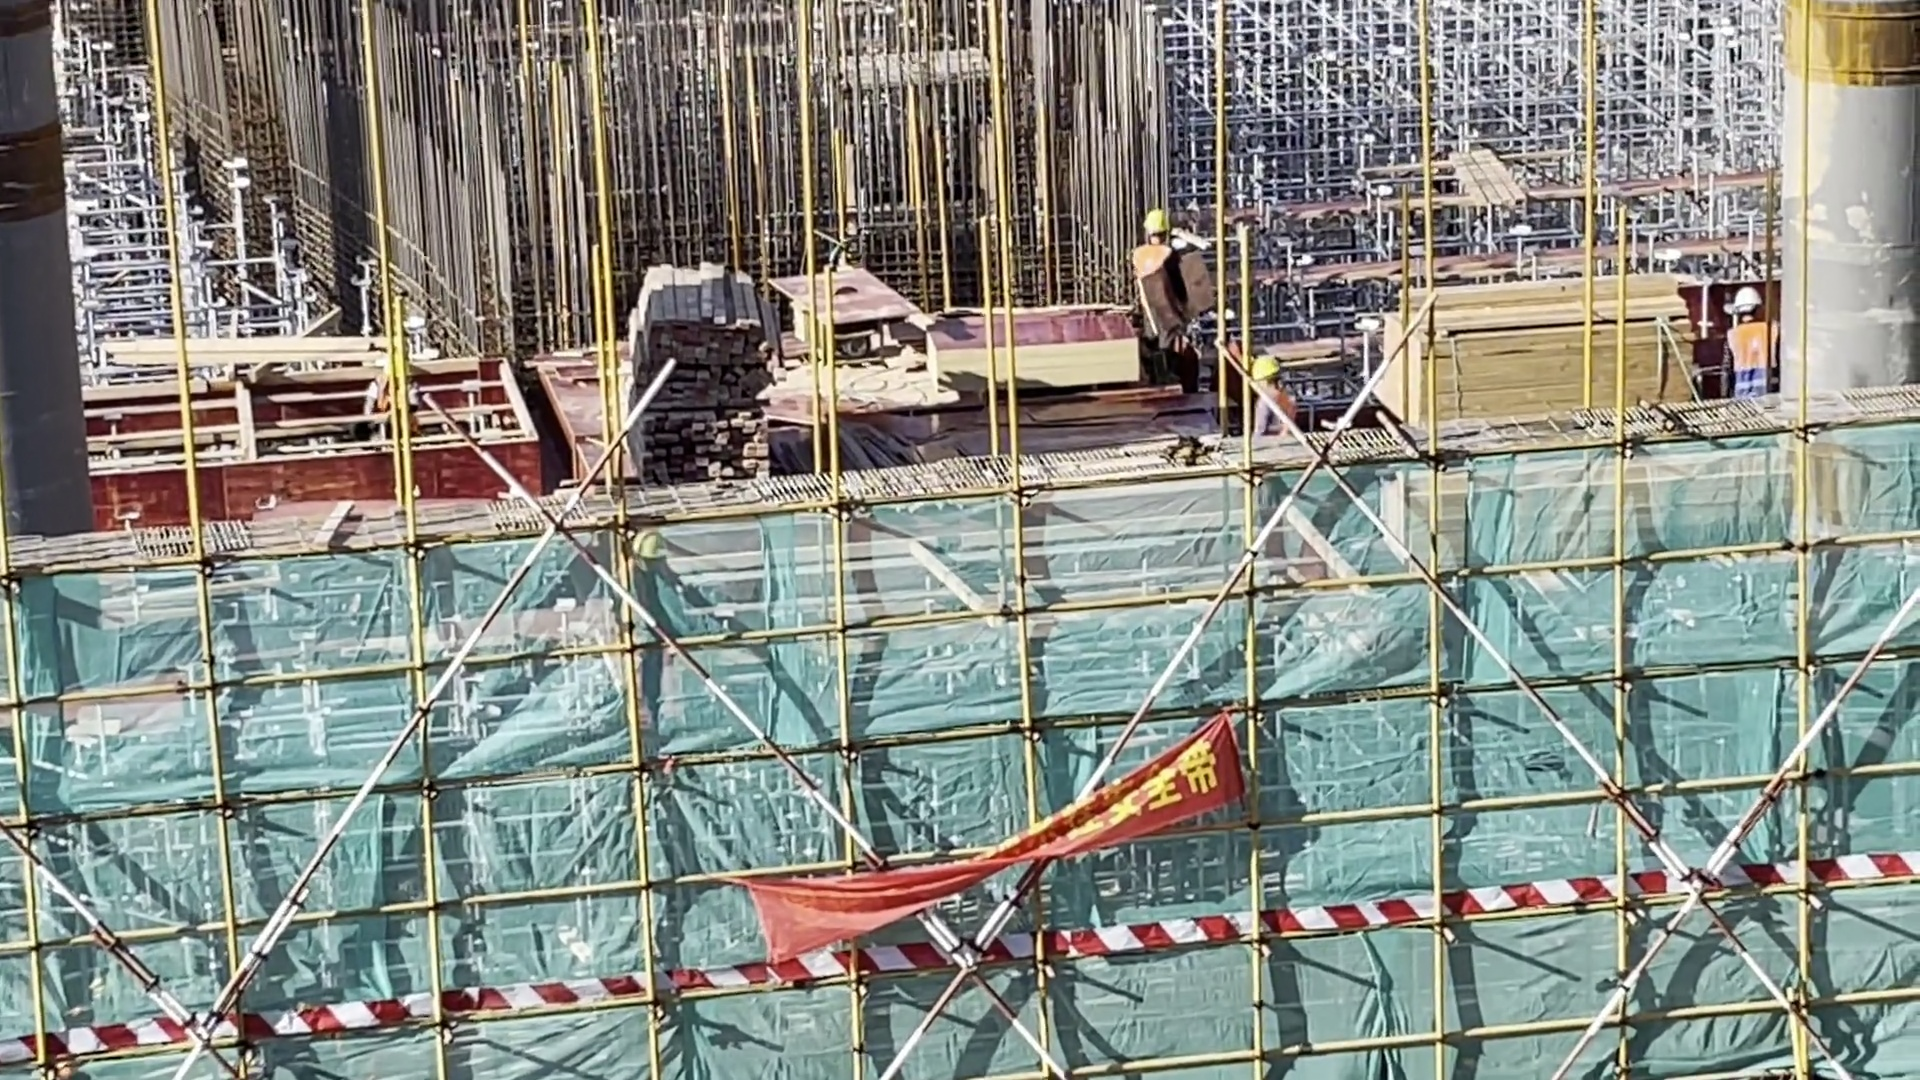helmet: (1254, 350, 1299, 389), (1141, 204, 1178, 252), (1725, 280, 1766, 317)
person: (1130, 200, 1197, 390), (1714, 278, 1792, 404), (1247, 350, 1311, 442)
slogan: (713, 686, 1247, 1002)
vest: (1726, 320, 1780, 395)
wood: (1355, 250, 1706, 441), (608, 230, 792, 505)
